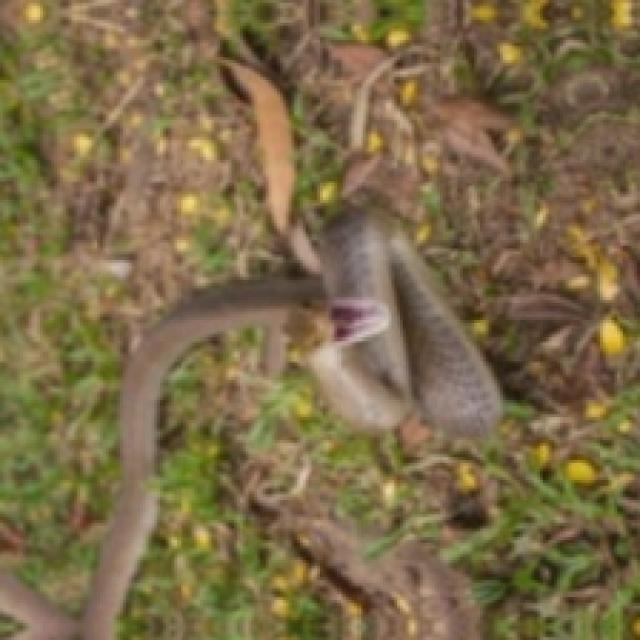reddish rat snake: (0, 60, 500, 637)
